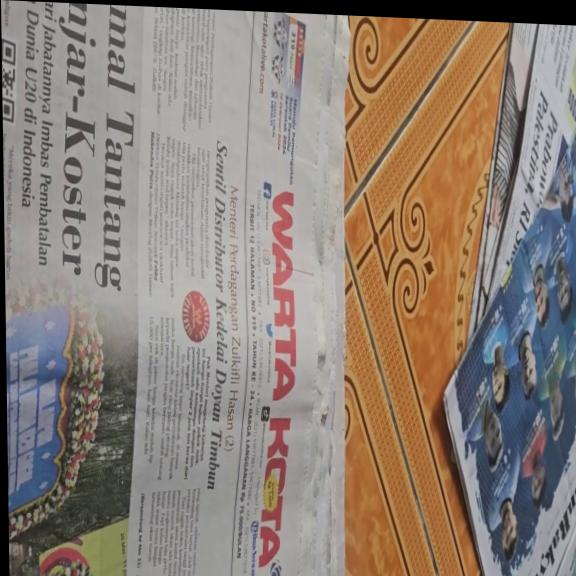Kertas: (3, 3, 346, 576), (480, 236, 576, 576), (506, 28, 576, 327)
